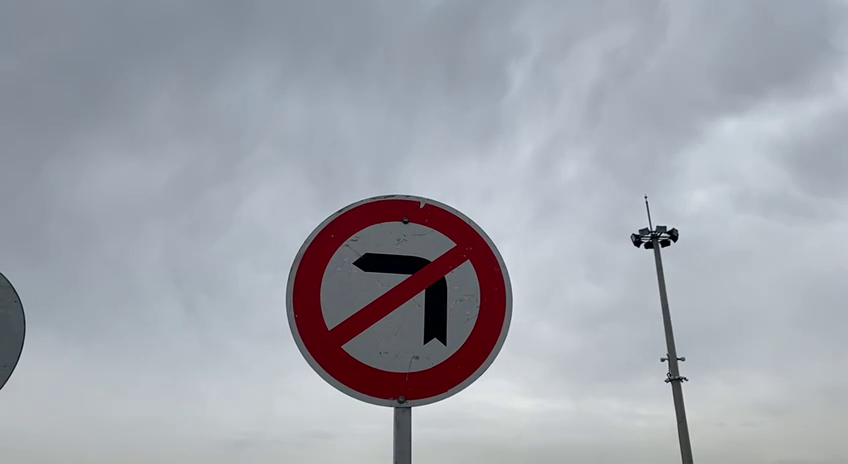noTurnLeft: (281, 190, 522, 413)
